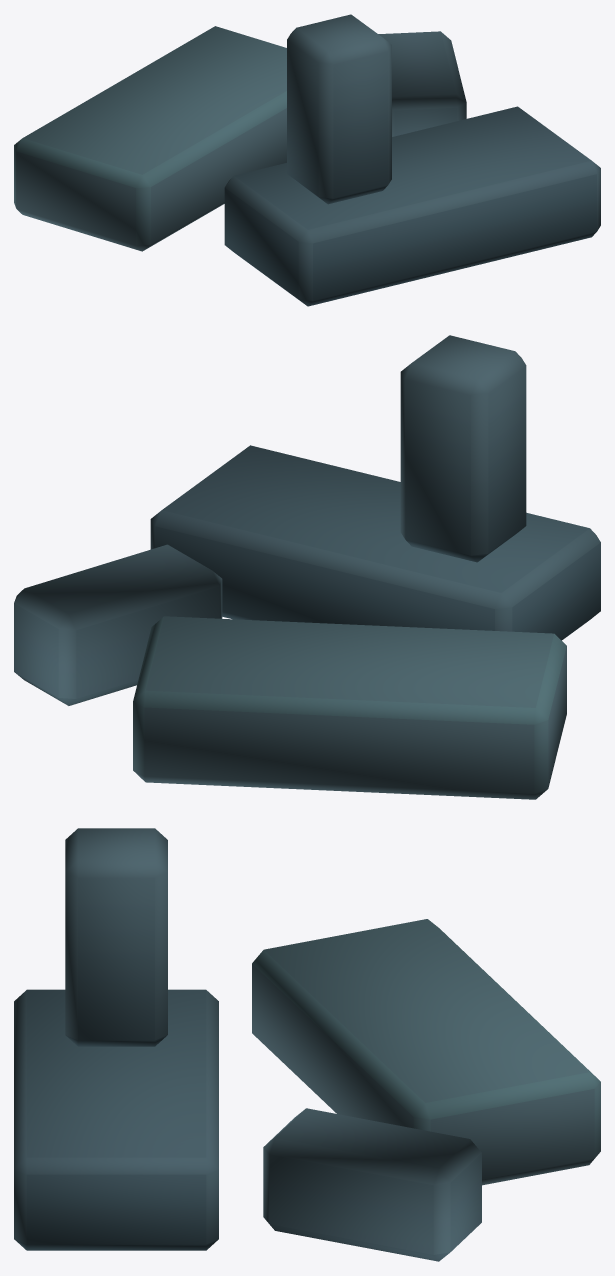
Rendered from fence_01_broken_hue_2.fbx.
3 renders of one model, top to bottom at view 1: azimuth 30°, elevation 25°; view 2: azimuth 150°, elevation 25°; view 3: azimuth 270°, elevation 25°, orthographic. The views are drawn at different scales.
Parts seen in each view (by area): view 1: fence_01_broken_hue_2; view 2: fence_01_broken_hue_2; view 3: fence_01_broken_hue_2.
Part boxes in pixels (bbox=[...]): fence_01_broken_hue_2: bbox=[14, 14, 600, 306]; fence_01_broken_hue_2: bbox=[14, 335, 600, 799]; fence_01_broken_hue_2: bbox=[14, 828, 600, 1261].
Size of the model in its own units: 150 by 75 by 143.
